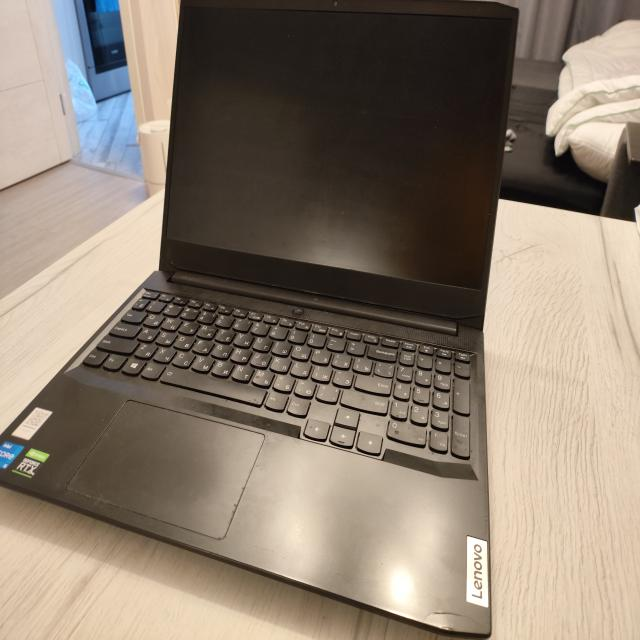chip: (414, 600, 493, 640), (250, 540, 279, 562)
missing_key: (213, 382, 269, 411), (452, 424, 478, 465), (425, 429, 449, 458), (367, 343, 399, 362), (356, 413, 384, 432), (292, 345, 309, 363), (253, 373, 272, 388), (392, 424, 404, 439), (312, 350, 325, 363), (395, 411, 402, 419)
other: (54, 463, 141, 525), (214, 459, 253, 542), (248, 422, 274, 471)
